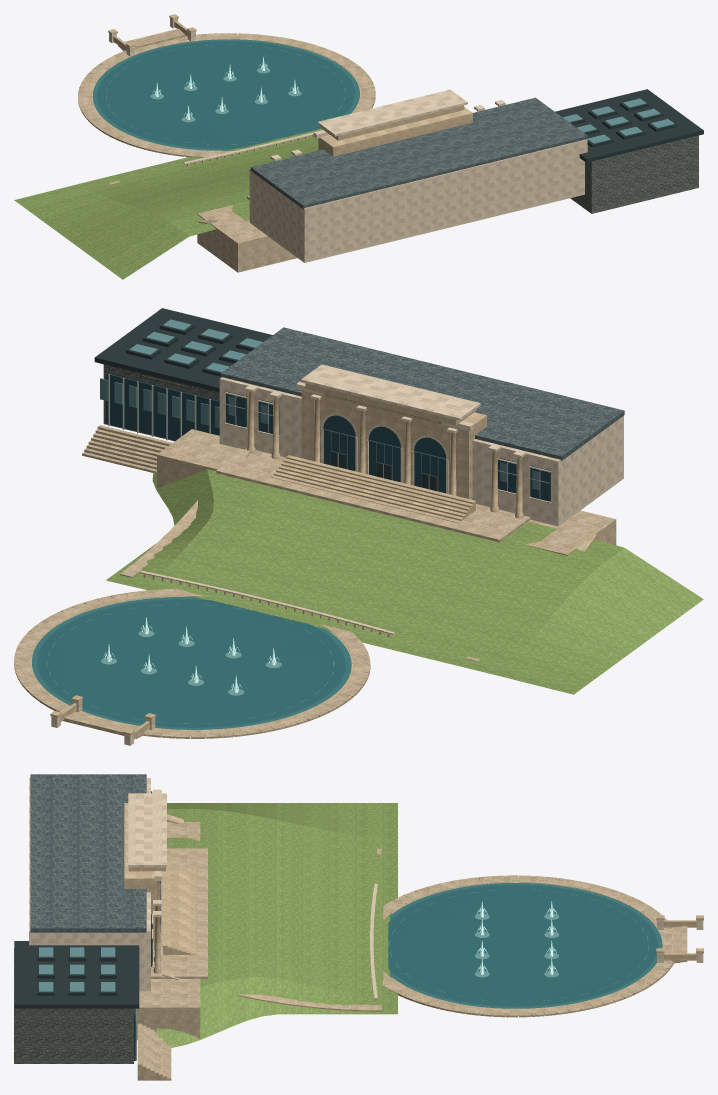
The model's file is forest-park.glb.
3 views of the same model, one above another, from view 1: azimuth 30°, elevation 25°; view 2: azimuth 150°, elevation 25°; view 3: azimuth 270°, elevation 25° (orthographic). The views are drawn at different scales.
Parts seen in each view (by area): view 1: Art Hill, Saint Louis Art Museum and Grand Basin · Ivory, Art Hill, Saint Louis Art Museum and Grand Basin · Water dar, Art Hill, Saint Louis Art Museum and Grand Basin · Grass slo, Art Hill, Saint Louis Art Museum and Grand Basin · Slate, Art Hill, Saint Louis Art Museum and Grand Basin · Terrace, Art Hill, Saint Louis Art Museum and Grand Basin · Charcoal , Art Hill, Saint Louis Art Museum and Grand Basin · Coal, Art Hill, Saint Louis Art Museum and Grand Basin · Limestone, Art Hill, Saint Louis Art Museum and Grand Basin · Water, Art Hill, Saint Louis Art Museum and Grand Basin · Glass lig, Art Hill, Saint Louis Art Museum and Grand Basin · Water lig, Art Hill, Saint Louis Art Museum and Grand Basin · Water spr; view 2: Art Hill, Saint Louis Art Museum and Grand Basin · Grass slo, Art Hill, Saint Louis Art Museum and Grand Basin · Water dar, Art Hill, Saint Louis Art Museum and Grand Basin · Terrace, Art Hill, Saint Louis Art Museum and Grand Basin · Ivory, Art Hill, Saint Louis Art Museum and Grand Basin · Slate, Art Hill, Saint Louis Art Museum and Grand Basin · Limestone, Art Hill, Saint Louis Art Museum and Grand Basin · Glass dar, Art Hill, Saint Louis Art Museum and Grand Basin · Coal, Art Hill, Saint Louis Art Museum and Grand Basin · Glass lig, Art Hill, Saint Louis Art Museum and Grand Basin · Water, Art Hill, Saint Louis Art Museum and Grand Basin · Light met, Art Hill, Saint Louis Art Museum and Grand Basin · Charcoal  (+1 smaller); view 3: Art Hill, Saint Louis Art Museum and Grand Basin · Grass slo, Art Hill, Saint Louis Art Museum and Grand Basin · Water dar, Art Hill, Saint Louis Art Museum and Grand Basin · Slate, Art Hill, Saint Louis Art Museum and Grand Basin · Terrace, Art Hill, Saint Louis Art Museum and Grand Basin · Coal, Art Hill, Saint Louis Art Museum and Grand Basin · Ivory, Art Hill, Saint Louis Art Museum and Grand Basin · Charcoal , Art Hill, Saint Louis Art Museum and Grand Basin · Limestone, Art Hill, Saint Louis Art Museum and Grand Basin · Water, Art Hill, Saint Louis Art Museum and Grand Basin · Glass lig, Art Hill, Saint Louis Art Museum and Grand Basin · Water lig, Art Hill, Saint Louis Art Museum and Grand Basin · Water spr.
Part boxes in pixels (box(x1,y1,x2,y2)): Art Hill, Saint Louis Art Museum and Grand Basin · Ivory: box(109, 18, 587, 262); Art Hill, Saint Louis Art Museum and Grand Basin · Water dar: box(97, 41, 355, 148); Art Hill, Saint Louis Art Museum and Grand Basin · Grass slo: box(14, 128, 322, 279); Art Hill, Saint Louis Art Museum and Grand Basin · Slate: box(250, 97, 587, 209); Art Hill, Saint Louis Art Museum and Grand Basin · Terrace: box(78, 28, 375, 272); Art Hill, Saint Louis Art Museum and Grand Basin · Charcoal : box(570, 135, 698, 213); Art Hill, Saint Louis Art Museum and Grand Basin · Coal: box(555, 89, 703, 162); Art Hill, Saint Louis Art Museum and Grand Basin · Limestone: box(92, 14, 498, 166); Art Hill, Saint Louis Art Museum and Grand Basin · Water: box(92, 39, 359, 150); Art Hill, Saint Louis Art Museum and Grand Basin · Glass lig: box(563, 98, 674, 143); Art Hill, Saint Louis Art Museum and Grand Basin · Water lig: box(106, 44, 345, 144); Art Hill, Saint Louis Art Museum and Grand Basin · Water spr: box(152, 56, 299, 119); Art Hill, Saint Louis Art Museum and Grand Basin · Grass slo: box(106, 469, 703, 694); Art Hill, Saint Louis Art Museum and Grand Basin · Water dar: box(37, 599, 345, 727); Art Hill, Saint Louis Art Museum and Grand Basin · Terrace: box(14, 425, 616, 738); Art Hill, Saint Louis Art Museum and Grand Basin · Ivory: box(51, 364, 623, 745); Art Hill, Saint Louis Art Museum and Grand Basin · Slate: box(221, 327, 624, 460); Art Hill, Saint Louis Art Museum and Grand Basin · Limestone: box(31, 383, 523, 739); Art Hill, Saint Louis Art Museum and Grand Basin · Glass dar: box(105, 373, 550, 501); Art Hill, Saint Louis Art Museum and Grand Basin · Coal: box(94, 308, 437, 491); Art Hill, Saint Louis Art Museum and Grand Basin · Glass lig: box(100, 319, 540, 490); Art Hill, Saint Louis Art Museum and Grand Basin · Water: box(32, 597, 351, 729); Art Hill, Saint Louis Art Museum and Grand Basin · Light met: box(108, 374, 549, 499); Art Hill, Saint Louis Art Museum and Grand Basin · Charcoal : box(103, 364, 219, 441); Art Hill, Saint Louis Art Museum and Grand Basin · Grass slo: box(156, 803, 397, 1047); Art Hill, Saint Louis Art Museum and Grand Basin · Water dar: box(388, 885, 657, 1006); Art Hill, Saint Louis Art Museum and Grand Basin · Slate: box(30, 774, 146, 932); Art Hill, Saint Louis Art Museum and Grand Basin · Terrace: box(137, 814, 687, 1080); Art Hill, Saint Louis Art Museum and Grand Basin · Coal: box(14, 881, 160, 1008); Art Hill, Saint Louis Art Museum and Grand Basin · Ivory: box(29, 778, 703, 998); Art Hill, Saint Louis Art Museum and Grand Basin · Charcoal : box(14, 948, 133, 1063); Art Hill, Saint Louis Art Museum and Grand Basin · Limestone: box(124, 803, 703, 1008); Art Hill, Saint Louis Art Museum and Grand Basin · Water: box(390, 883, 662, 1008); Art Hill, Saint Louis Art Museum and Grand Basin · Glass lig: box(39, 947, 136, 1041); Art Hill, Saint Louis Art Museum and Grand Basin · Water lig: box(389, 889, 648, 1002); Art Hill, Saint Louis Art Museum and Grand Basin · Water spr: box(476, 901, 557, 974).
Size of the model in its own units: 44.74 by 8.81 by 46.65.
Materials: 17 (8 with a texture image).
